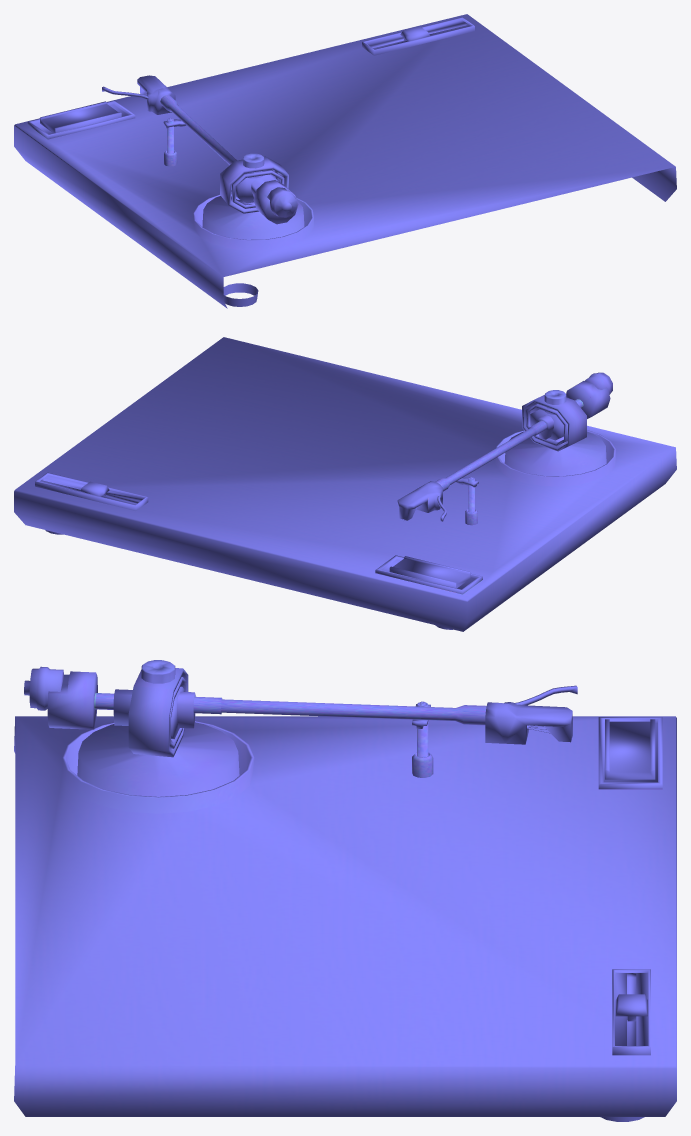
Rendered from RecordBottom.fbx.
3 views of the same model, one above another, from view 1: azimuth 30°, elevation 25°; view 2: azimuth 150°, elevation 25°; view 3: azimuth 270°, elevation 25° (orthographic). The views are drawn at different scales.
Parts seen in each view (by area): view 1: MappedRecordP; view 2: MappedRecordP; view 3: MappedRecordP.
Boxes of the visible parts, x1,y1,x2,y2 form: MappedRecordP: (14,14,676,308); MappedRecordP: (14,337,676,631); MappedRecordP: (14,660,676,1121).
Size of the model in its own units: 45.72 by 36.58 by 10.66.
